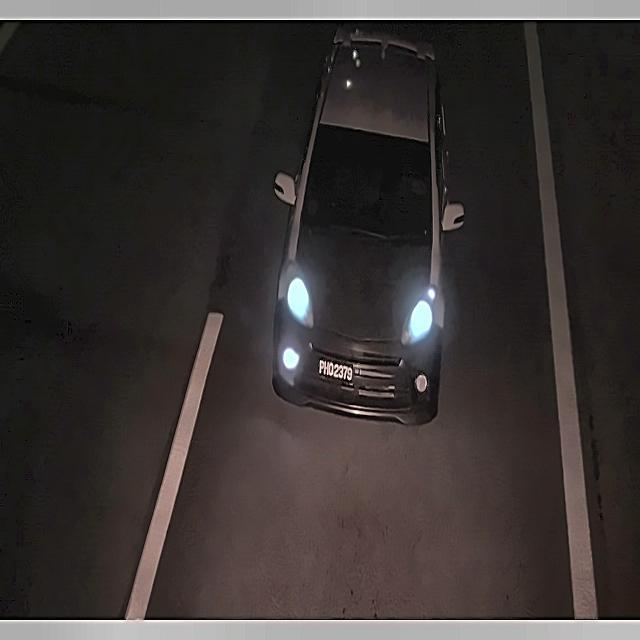car: (314, 349, 358, 387)
